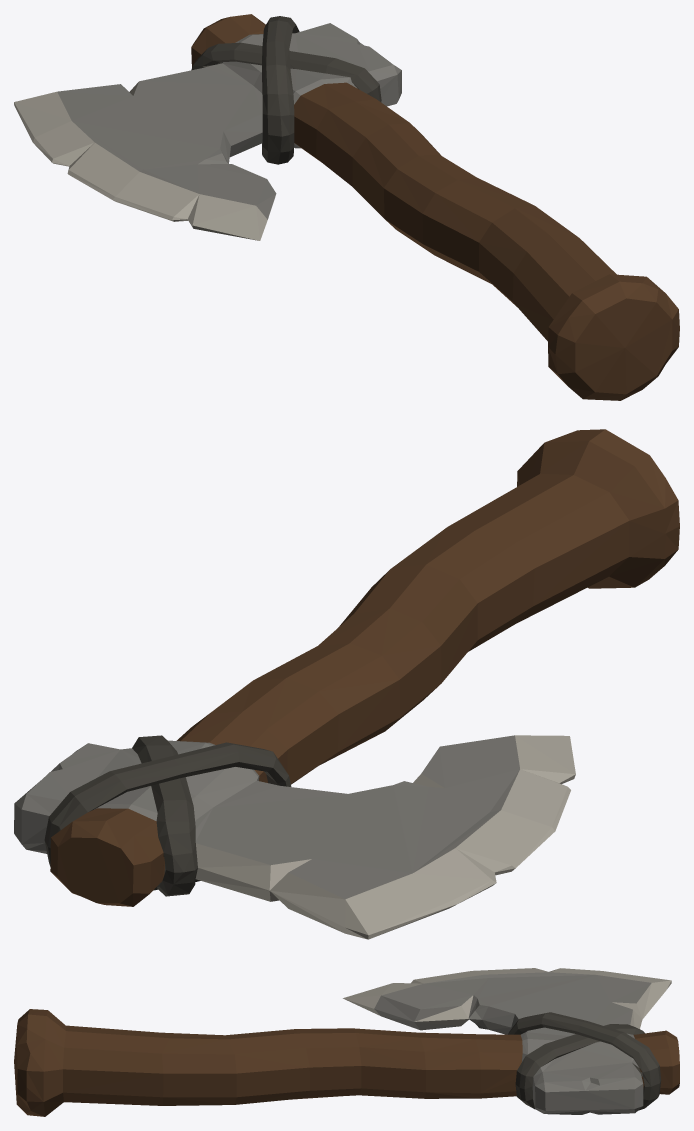
File: MedievalAxe.fbx
3 renders of one model, top to bottom at view 1: azimuth 30°, elevation 25°; view 2: azimuth 150°, elevation 25°; view 3: azimuth 270°, elevation 25°, orthographic. The views are drawn at different scales.
Visible parts, largest first — view 1: MedievalAxe; view 2: MedievalAxe; view 3: MedievalAxe.
Boxes of the visible parts, x1=… form: MedievalAxe: x1=14, y1=14, x2=679, y2=400; MedievalAxe: x1=14, y1=429, x2=679, y2=939; MedievalAxe: x1=14, y1=968, x2=679, y2=1116.
Bounding box in the file's own units: 0.2181 × 0.4537 × 0.0728.
